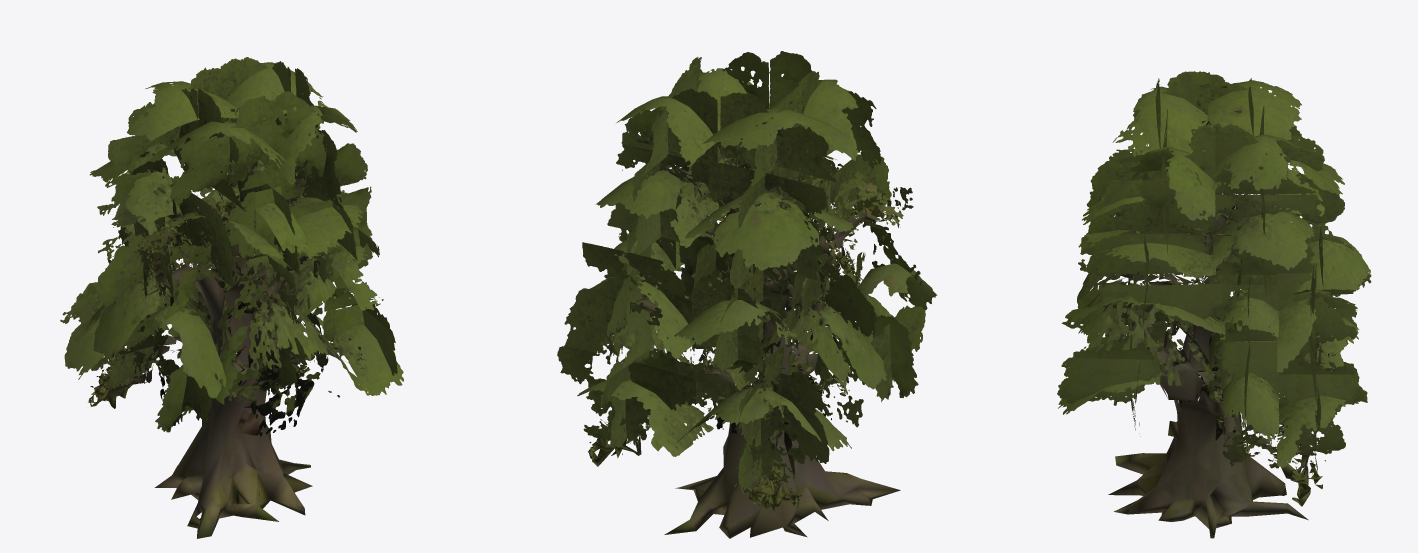
The model's file is tree-1537-near.glb.
The picture shows the model from 3 angles, left to right: view 1: azimuth 30°, elevation 25°; view 2: azimuth 150°, elevation 25°; view 3: azimuth 270°, elevation 25°; orthographic projection. The views are drawn at different scales.
Visible parts, largest first — view 1: Foliage, Wood; view 2: Foliage, Wood; view 3: Foliage, Wood.
Boxes of the visible parts, x1=… form: Foliage: x1=60, y1=57, x2=403, y2=436; Wood: x1=88, y1=106, x2=364, y2=538; Foliage: x1=557, y1=51, x2=937, y2=490; Wood: x1=588, y1=107, x2=900, y2=538; Foliage: x1=1057, y1=71, x2=1371, y2=471; Wood: x1=1108, y1=113, x2=1336, y2=538.
Bounding box in the file's own units: 10.41 × 12.82 × 9.94.
Materials: 2 (2 with a texture image).
